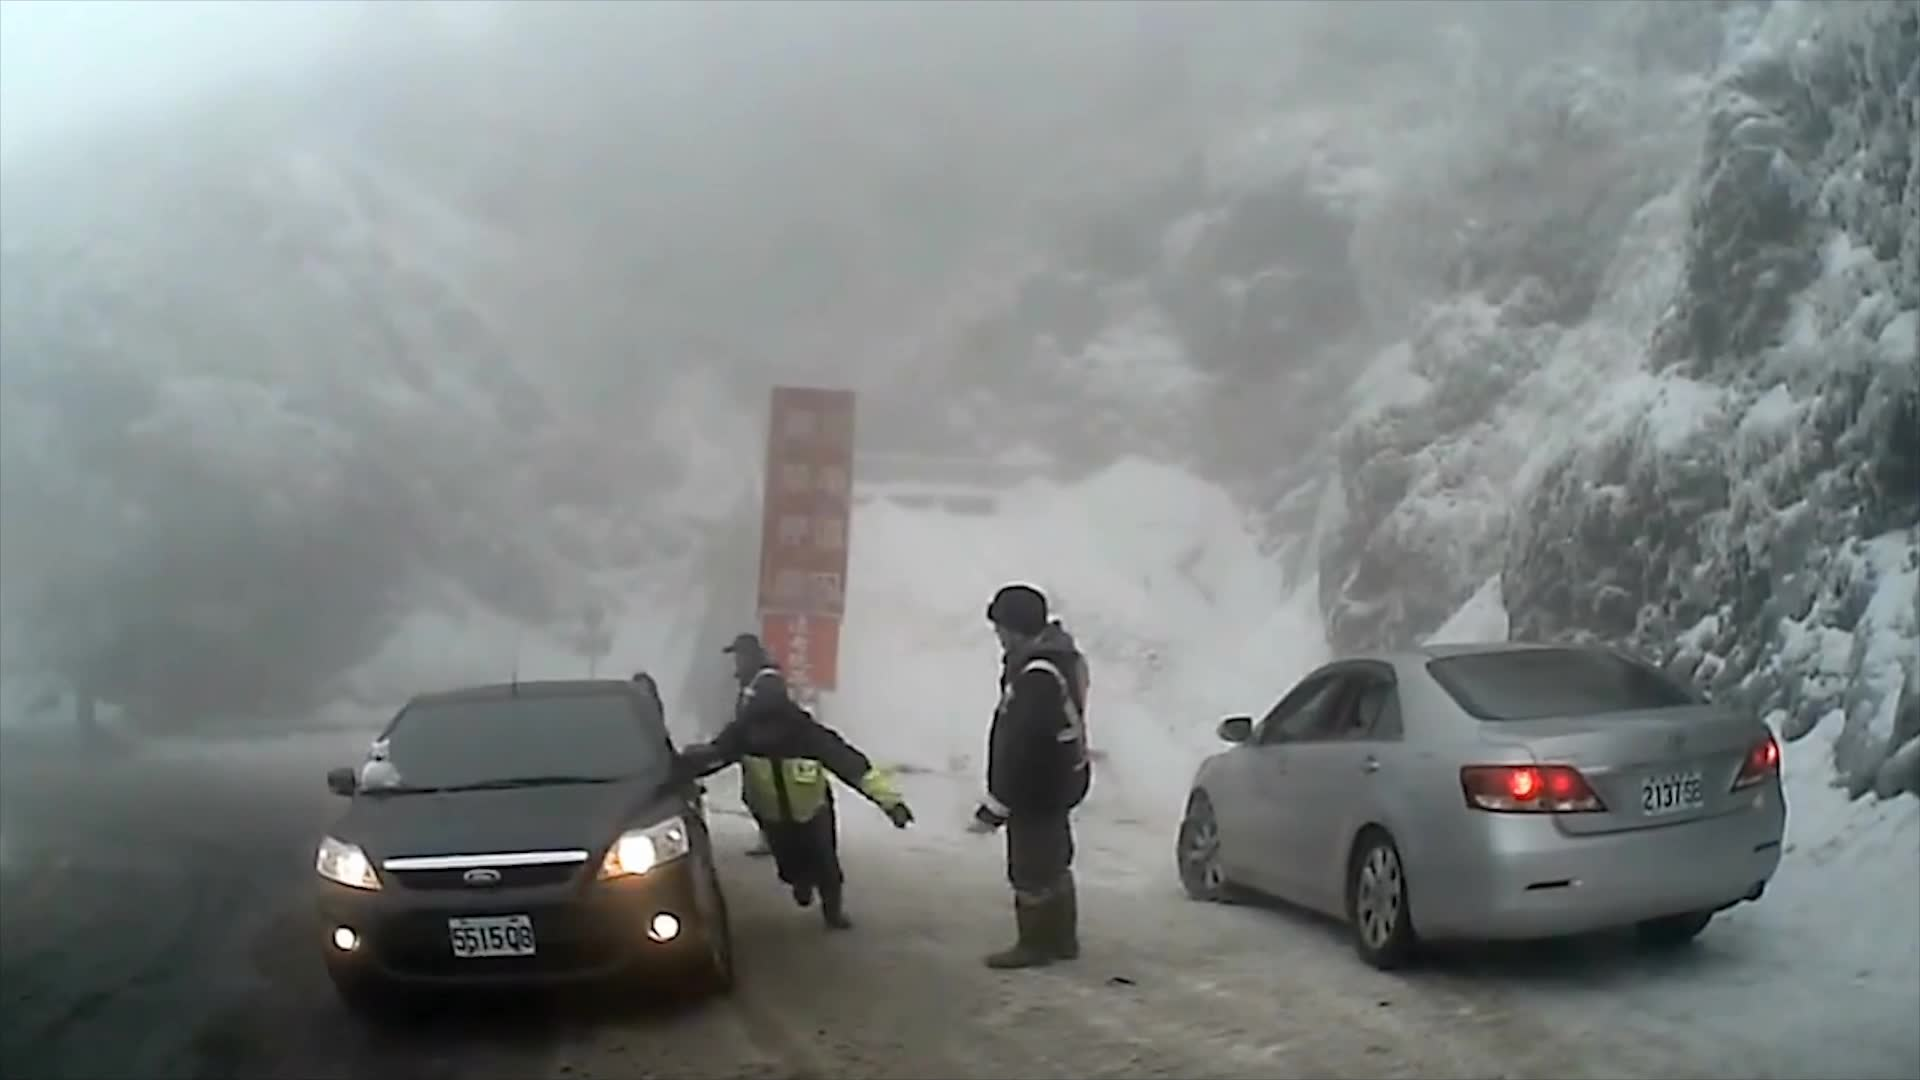pedestrian: (682, 692, 906, 930), (961, 590, 1092, 975), (721, 635, 802, 865), (1024, 622, 1102, 811)
vehicle: (1174, 644, 1785, 971), (312, 679, 735, 1007)
